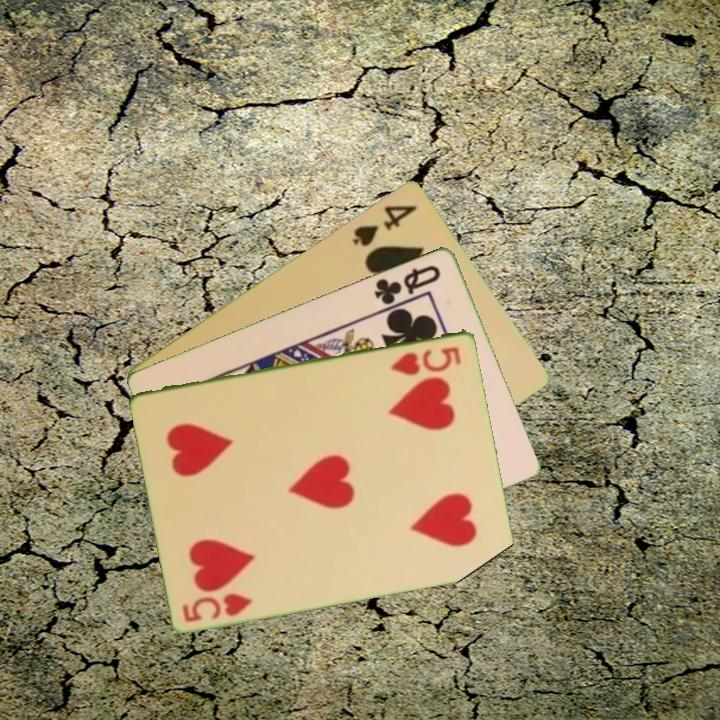4s: (348, 201, 420, 249)
5h: (388, 342, 465, 378), (178, 589, 255, 625)
Qc: (370, 261, 444, 307)
